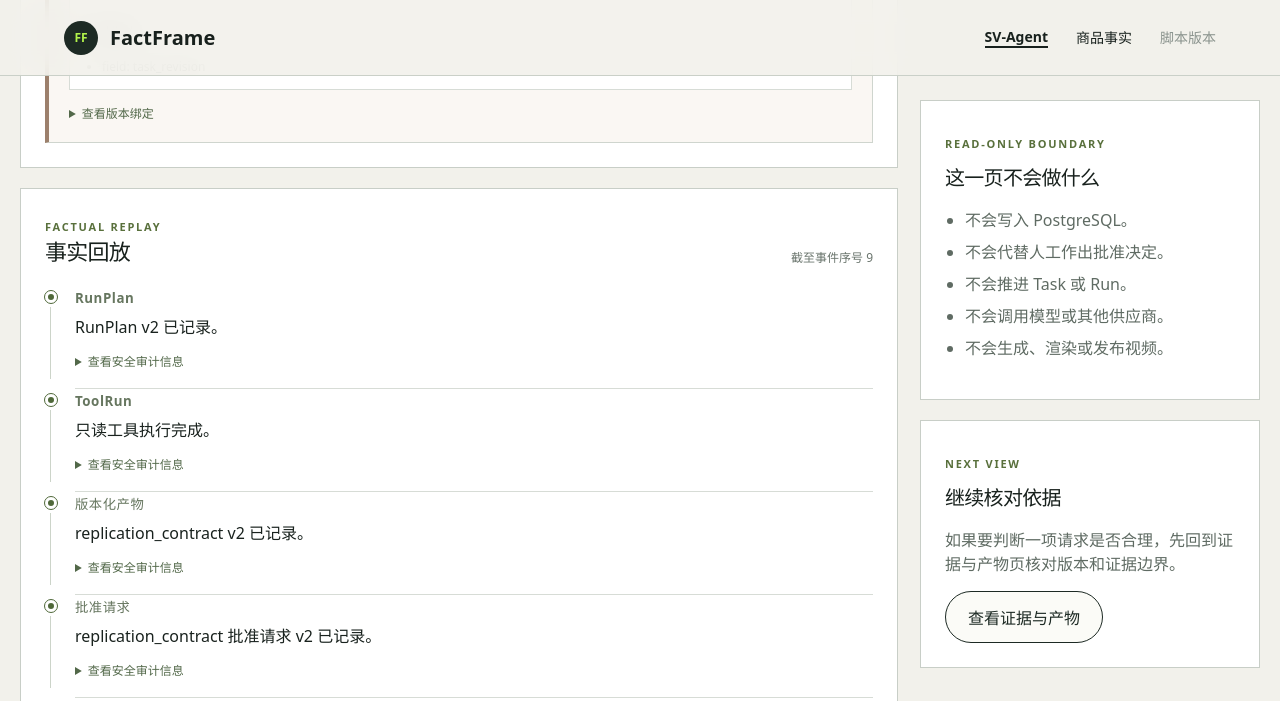
SV-Agent Approval and Replay › shows version-bound approval cards and a GET-only factual timeline
(page scrolled)
Expected: the text "事件序号 5" is not shown
Click the heading "查看安全审计信息" below "RunPlan v2 已记录。" at (136, 361), box x1=88 y1=353 x2=184 y2=370
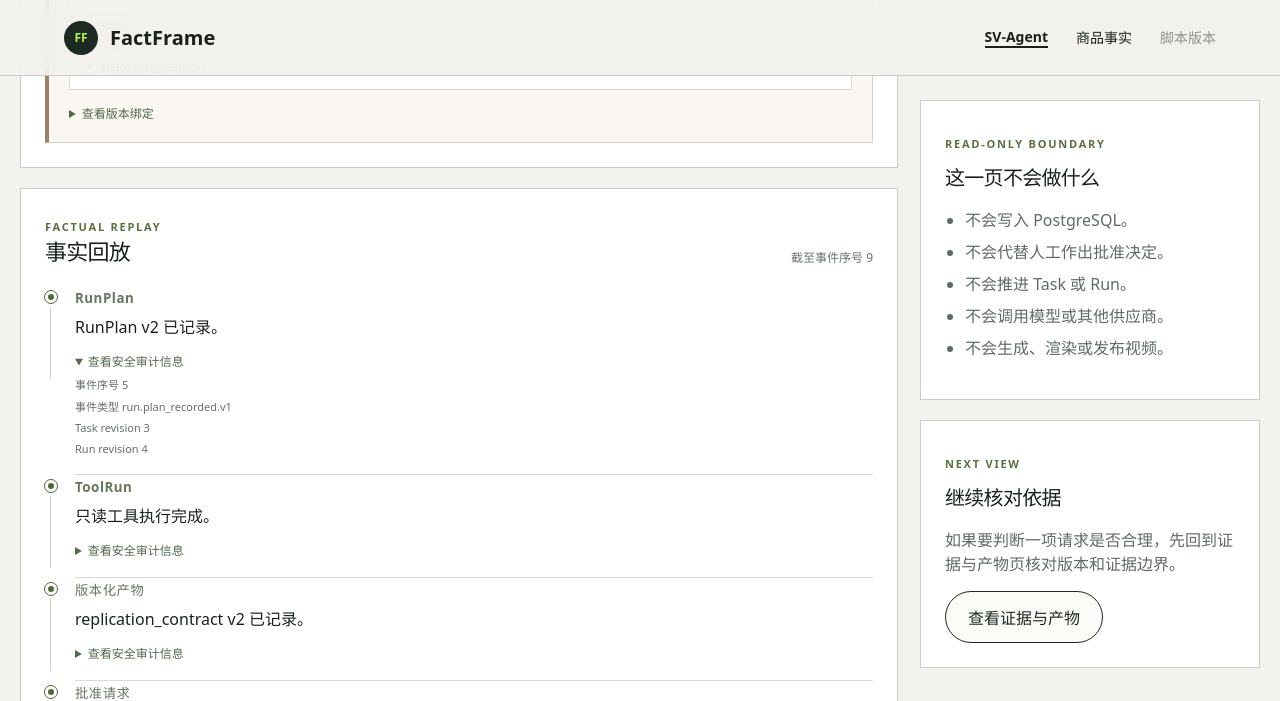
Expected: the text "事件序号 5" is shown, x1=75 y1=377 x2=128 y2=392
